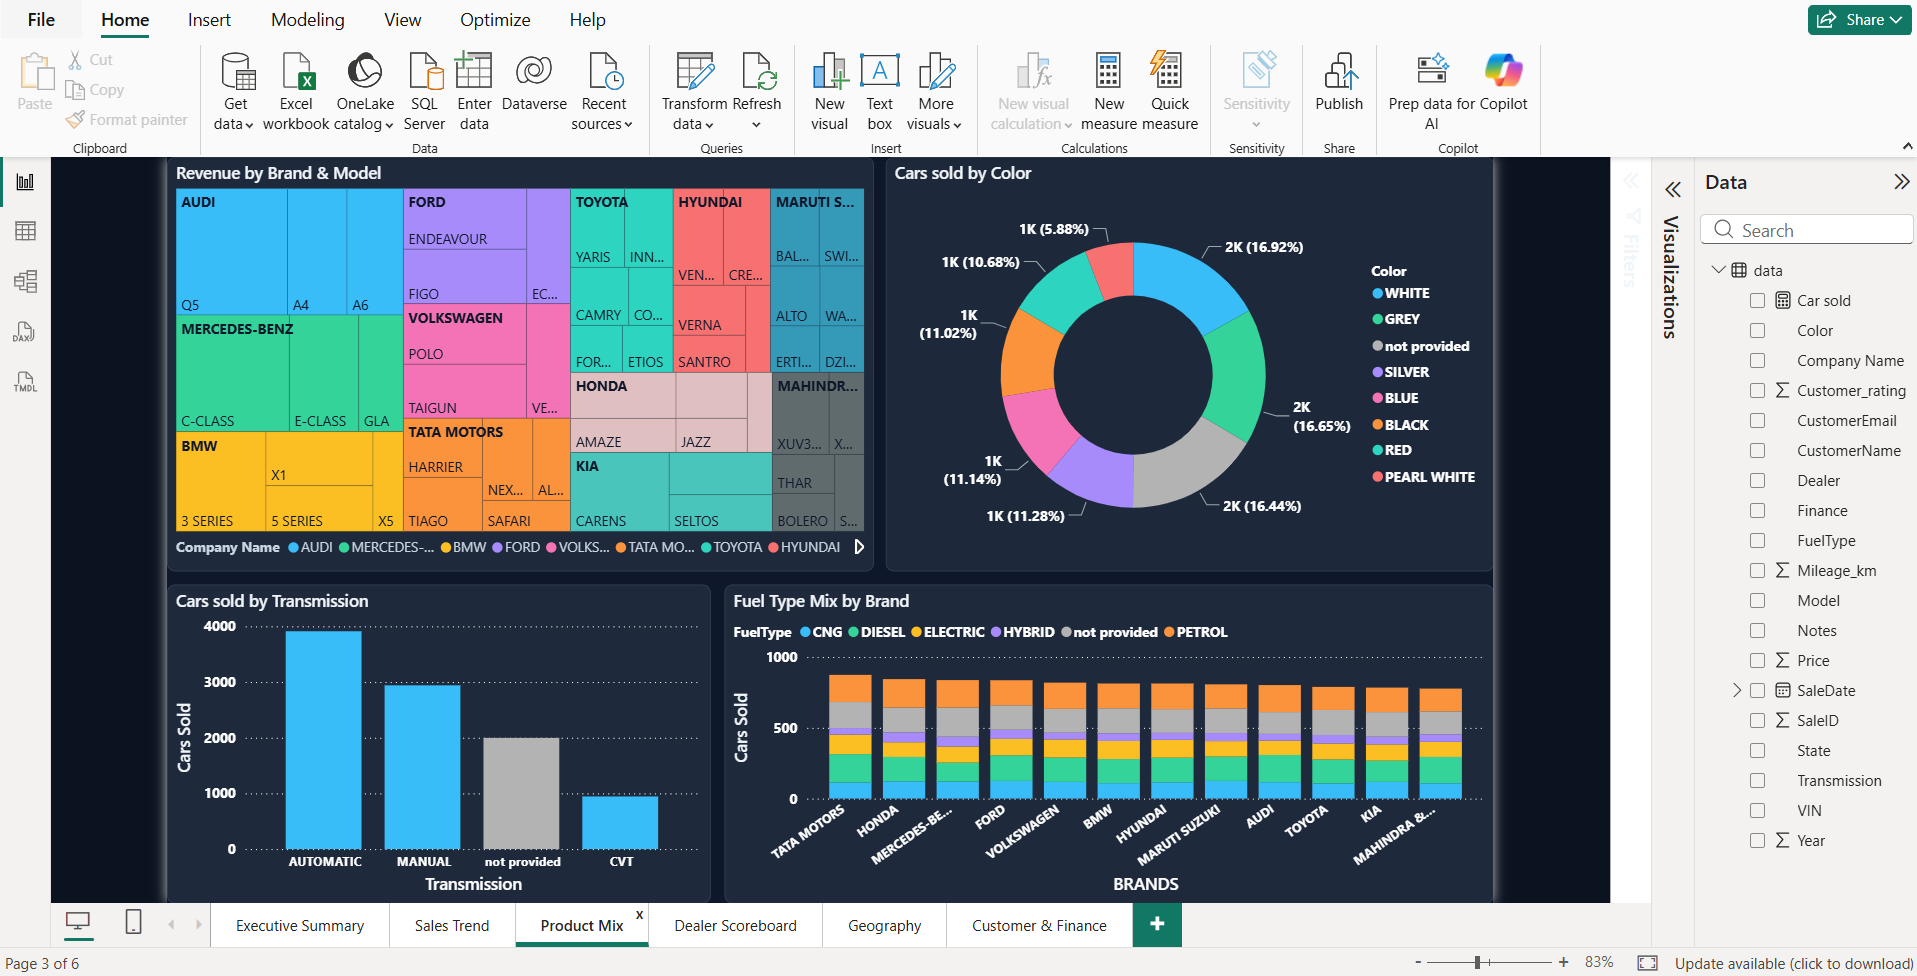

What the dashboard file says about the page in this screenshot:
{"tool":"powerbi","page":{"name":"Product Mix","canvas":[1280,720],"ordinal":2},"visuals":[{"type":"treemap","title":"Revenue by Brand & Model","fields":{"Group":["data.Company Name"],"Details":["data.Model"],"Values":["Sum(data.Price)"]},"box":[0,0,682.3,399.9],"z":0},{"type":"columnChart","title":"Cars sold by Transmission","fields":{"Category":["data.Transmission"],"Y":["data.Car sold"]},"box":[0,412.1,524.6,308.2],"z":1000},{"type":"columnChart","title":"Fuel Type Mix by Brand","fields":{"Series":["data.FuelType"],"Category":["data.Company Name"],"Y":["data.Car sold"]},"box":[538,412.1,742.3,308.2],"z":2000},{"type":"donutChart","title":"Cars sold by Color","fields":{"Category":["data.Color"],"Y":["data.Car sold"]},"box":[693.3,0,587,399.9],"z":3000}]}

Visuals, with their boxes on the page's 1280x720 design canvas (x1, y1, x2, y2). These are canvas units, not pixel positions in the 1917x976 screenshot, which may show the page scaled, cropped or inside an application window:
"Revenue by Brand & Model" treemap: locate(0, 0, 682, 400)
"Cars sold by Transmission" columnChart: locate(0, 412, 525, 720)
"Fuel Type Mix by Brand" columnChart: locate(538, 412, 1280, 720)
"Cars sold by Color" donutChart: locate(693, 0, 1280, 400)
